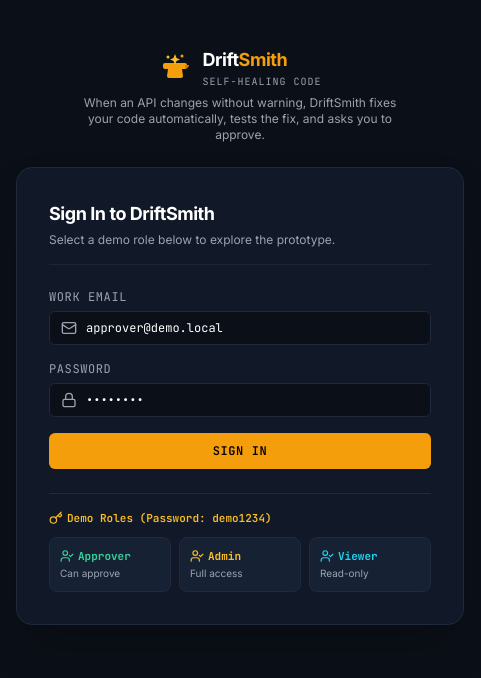
Test case: pages/LoginPage › displays error alert when login fails
The width and height of the screenshot is (481, 678).
Click the button "Sign In" at (240, 451), box [49,433,431,469]
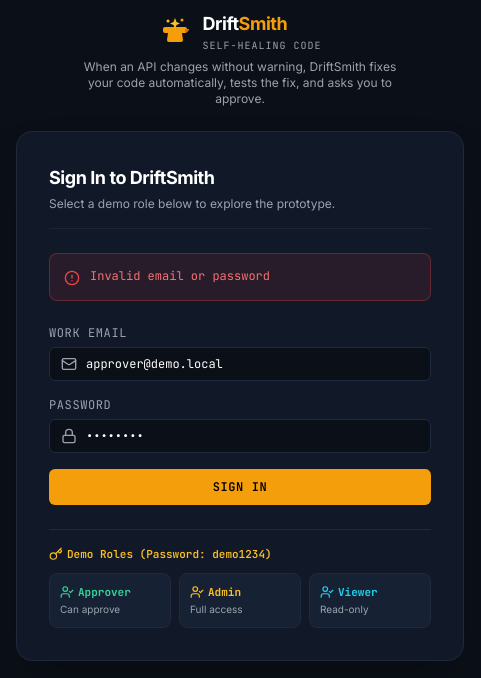
Result: the text "Invalid email or password" is shown at [90,268,270,284]
